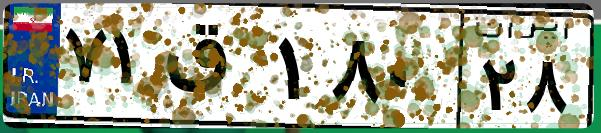0: (385, 28, 445, 110)
1: (270, 28, 330, 110), (110, 28, 158, 98)
2: (475, 38, 525, 113)
7: (57, 26, 110, 100)
8: (330, 28, 385, 110), (525, 38, 570, 115)
ق: (158, 20, 270, 120)
